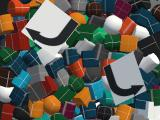Left: (103, 52, 147, 106)
Right: (21, 0, 79, 57)
